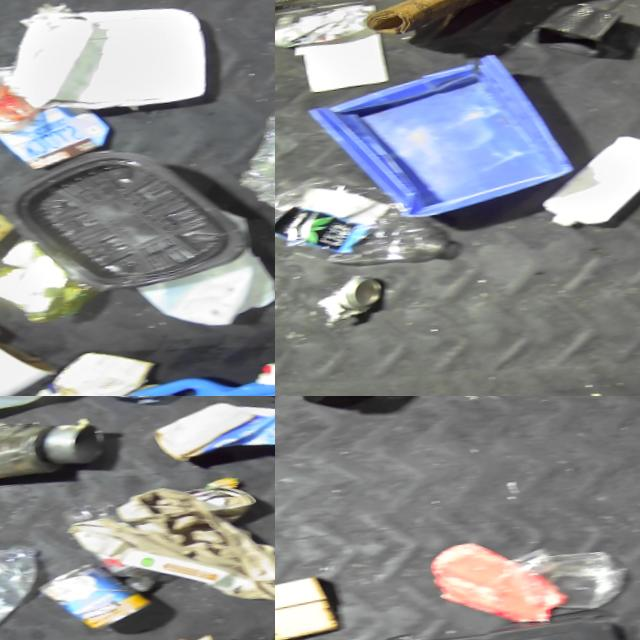can: (37, 553, 154, 637), (312, 267, 398, 331), (275, 567, 334, 640)
milk_jug: (529, 124, 640, 235)
non_white_jug: (79, 340, 275, 396)
plastic_bottle: (275, 156, 452, 279), (0, 537, 51, 640)
